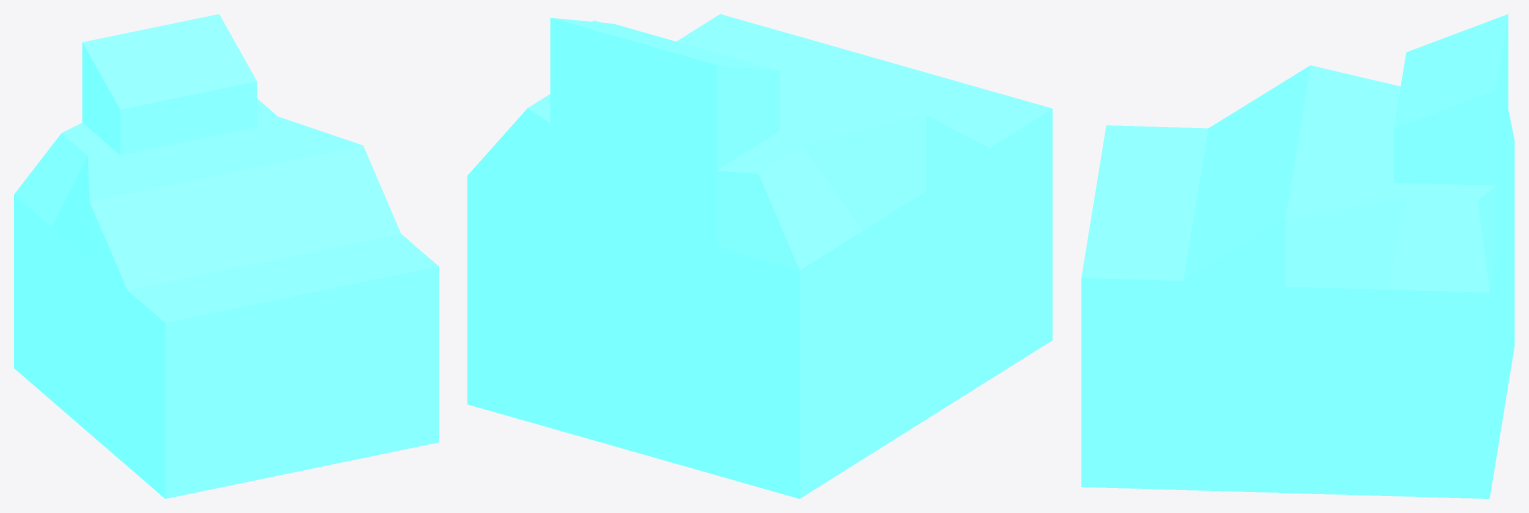
Rendered from _ machineSlot.fbx.
3 views of the same model, side by side, from view 1: azimuth 30°, elevation 25°; view 2: azimuth 150°, elevation 25°; view 3: azimuth 270°, elevation 25° (orthographic). The views are drawn at different scales.
Visible parts, largest first — view 1: Cube; view 2: Cube; view 3: Cube.
Part boxes in pixels (left/top/right/bottom): Cube: left=14, top=14, right=438, bottom=498; Cube: left=467, top=14, right=1052, bottom=498; Cube: left=1081, top=14, right=1514, bottom=498.
Size of the model in its own units: 215 by 226 by 239.
